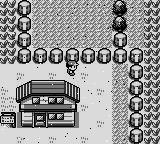captura: (144, 1, 159, 142), (0, 1, 16, 64)
leer: (0, 112, 16, 128)
main: (66, 60, 79, 76)
no-caminable: (17, 0, 144, 143), (16, 79, 79, 127), (112, 0, 127, 32)
puerta: (34, 113, 46, 127)
